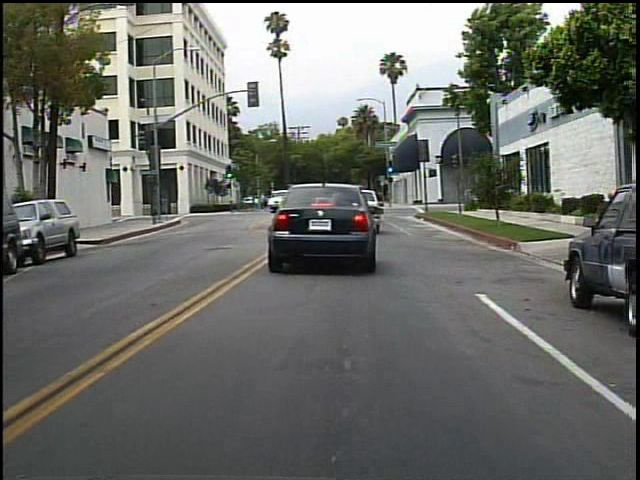person: (288, 184, 314, 221)
